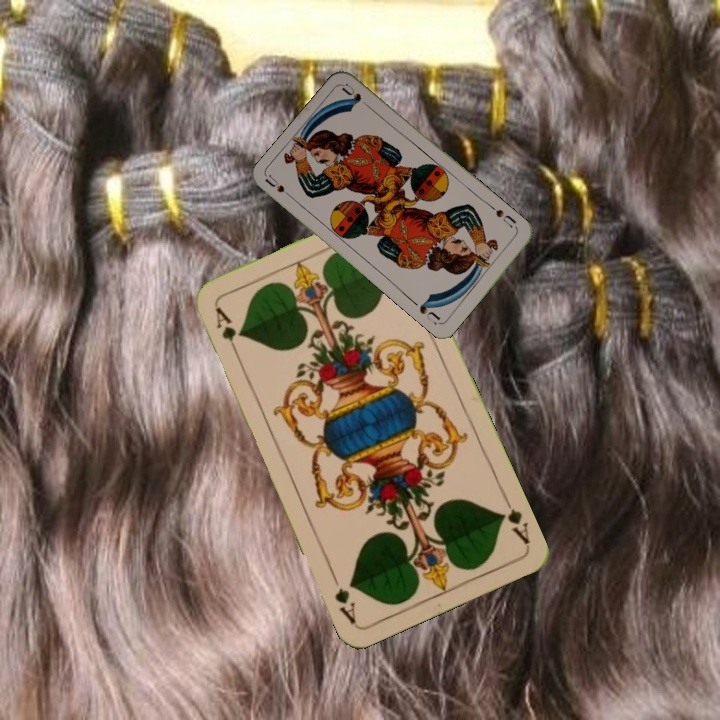GA: (495, 491, 533, 547), (211, 303, 242, 359)
SU: (262, 171, 298, 204), (492, 205, 521, 233)
